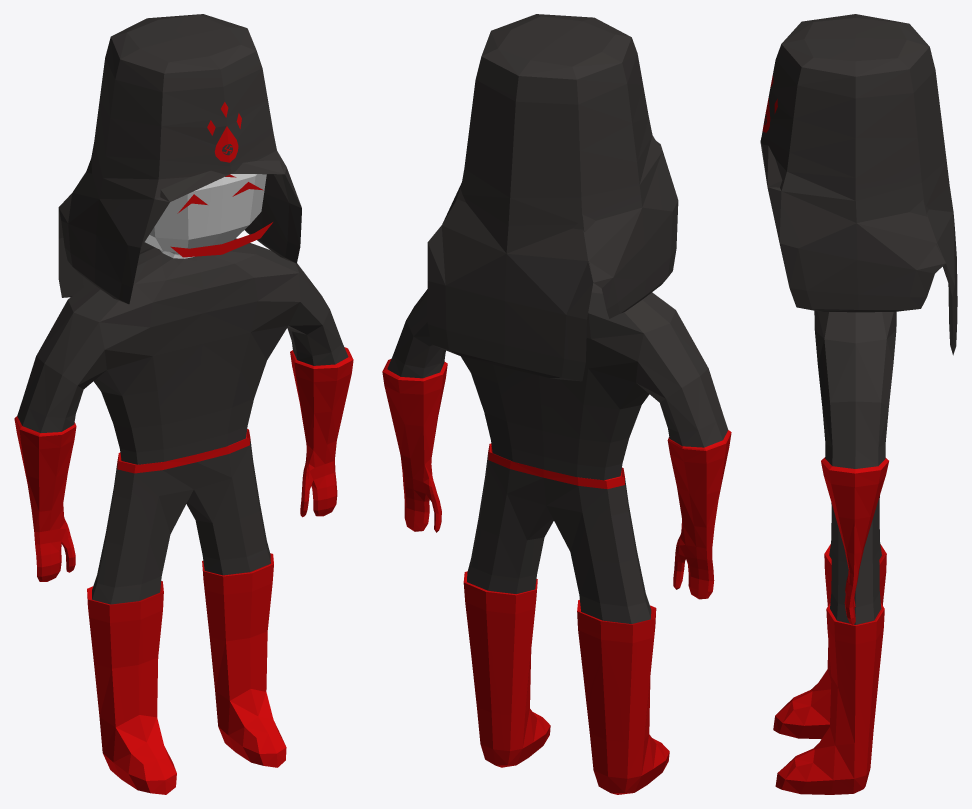
The model's file is Pon.obj.
The picture shows the model from 3 angles, left to right: view 1: azimuth 30°, elevation 25°; view 2: azimuth 150°, elevation 25°; view 3: azimuth 270°, elevation 25°; orthographic projection. The views are drawn at different scales.
Parts seen in each view (by area): view 1: Plane; view 2: Plane; view 3: Plane.
Boxes of the visible parts, x1,y1,x2,y2 form: Plane: [14, 14, 353, 794]; Plane: [382, 14, 731, 794]; Plane: [760, 14, 957, 794].
Size of the model in its own units: 1.44 by 3.03 by 0.7427.
